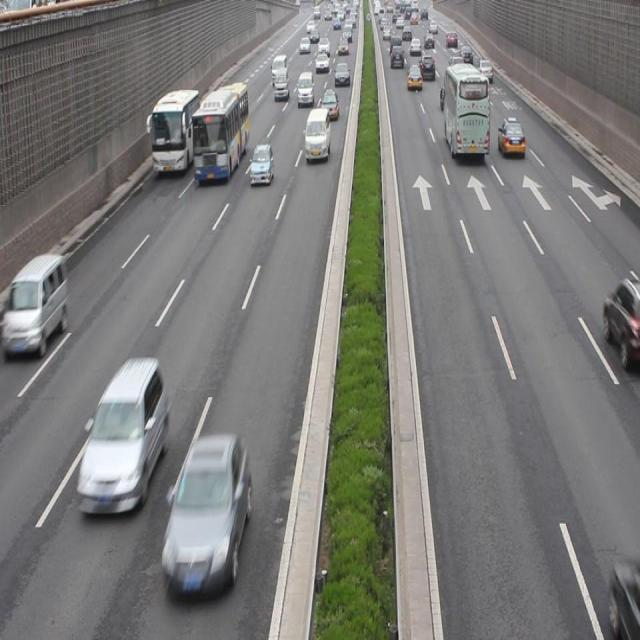car: (80, 354, 168, 520), (161, 438, 252, 595), (599, 276, 640, 366), (496, 117, 523, 158), (250, 144, 273, 188)
truck: (1, 254, 68, 360), (303, 106, 331, 165)
van: (191, 80, 250, 182), (443, 66, 488, 158), (150, 90, 199, 174)
